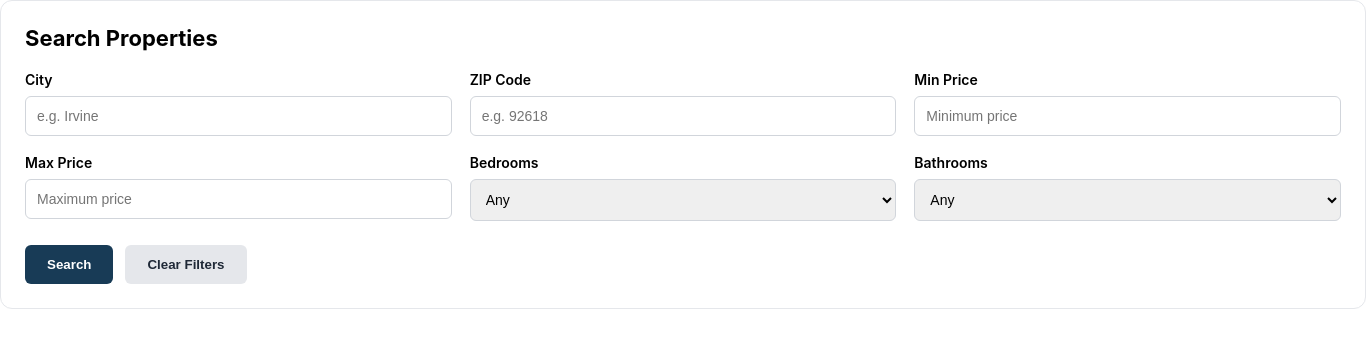
PropertyFilters Component › rejects minimum price greater than maximum price
Type "900000" into the number field labelled "Min Price" at (1128, 116), box [914,96,1341,136]
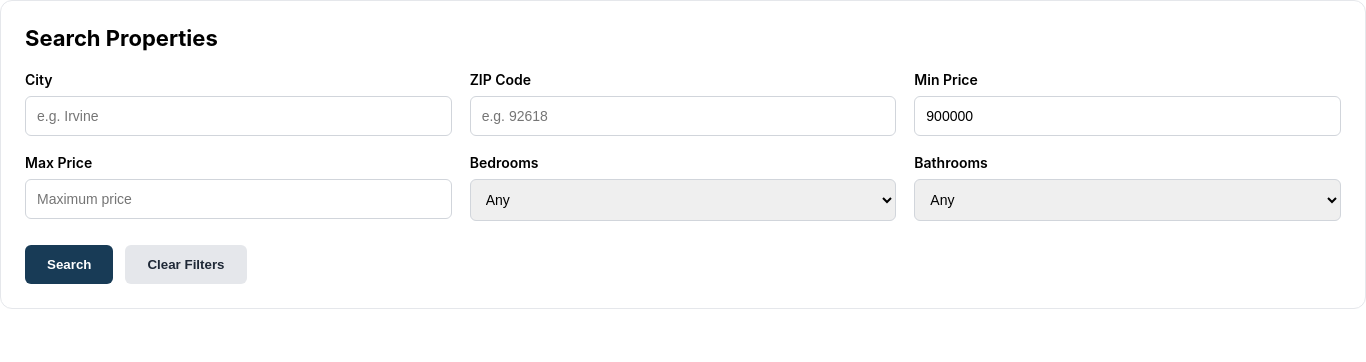
Type "300000" into the number field labelled "Max Price" at (238, 199), box [25,179,452,219]
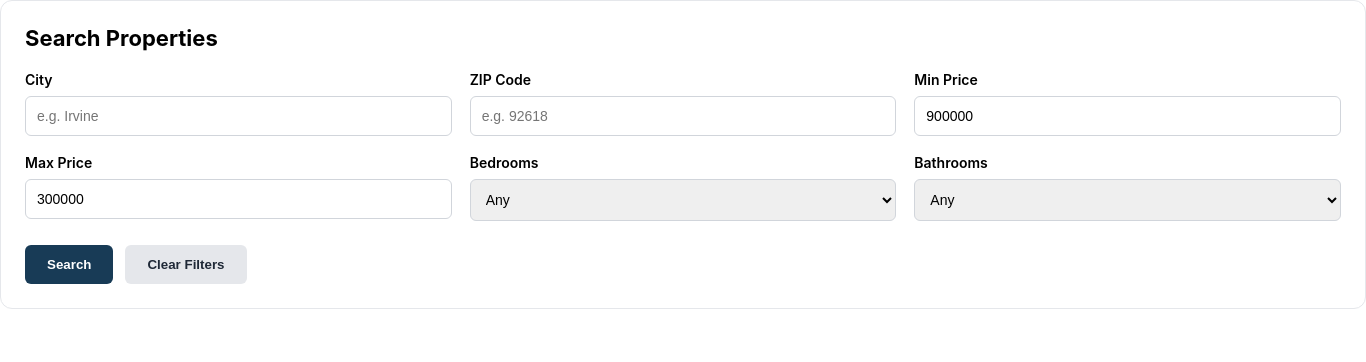
Click the button "Search" at (69, 264), box [25,245,114,284]
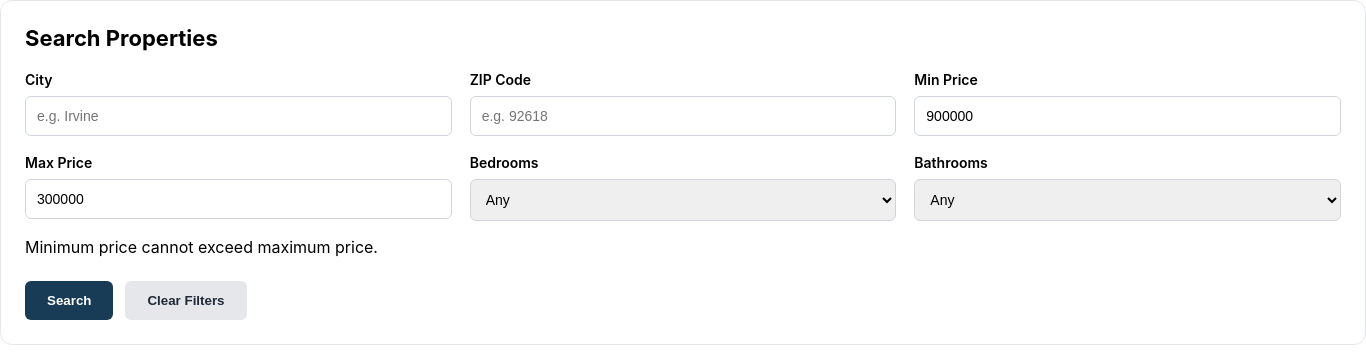
Now the message reads "Minimum price cannot exceed maximum price.", box [25,237,378,257]
